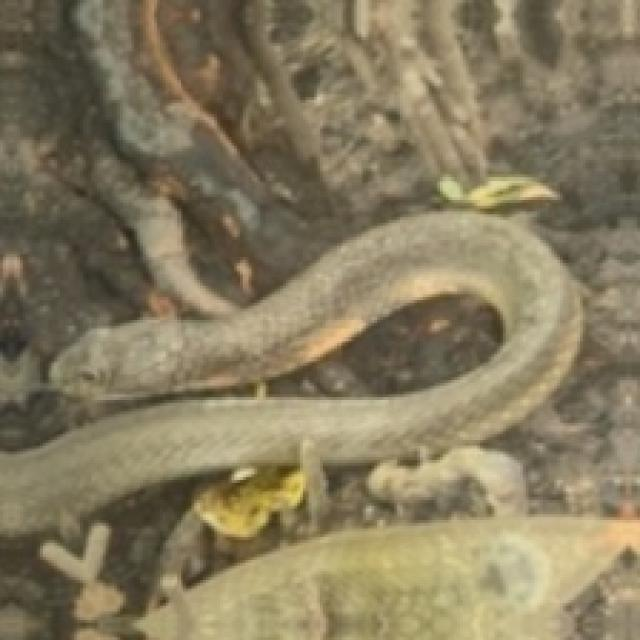king cobra: (0, 211, 580, 534)
